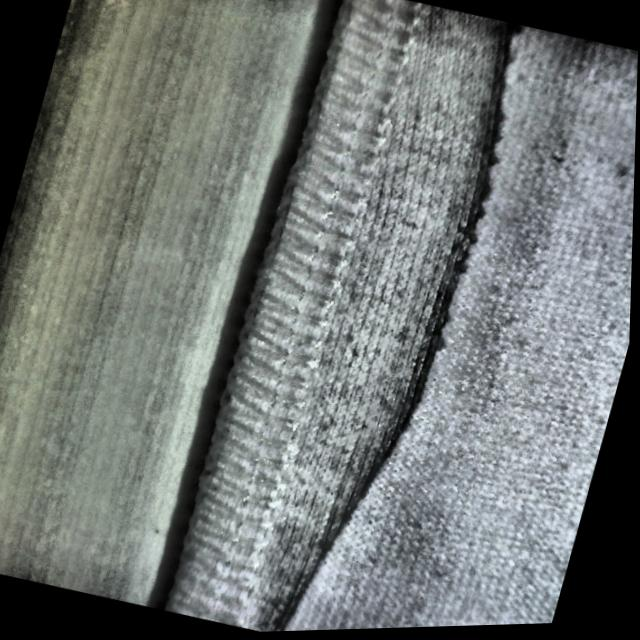seam: (162, 0, 574, 636)
